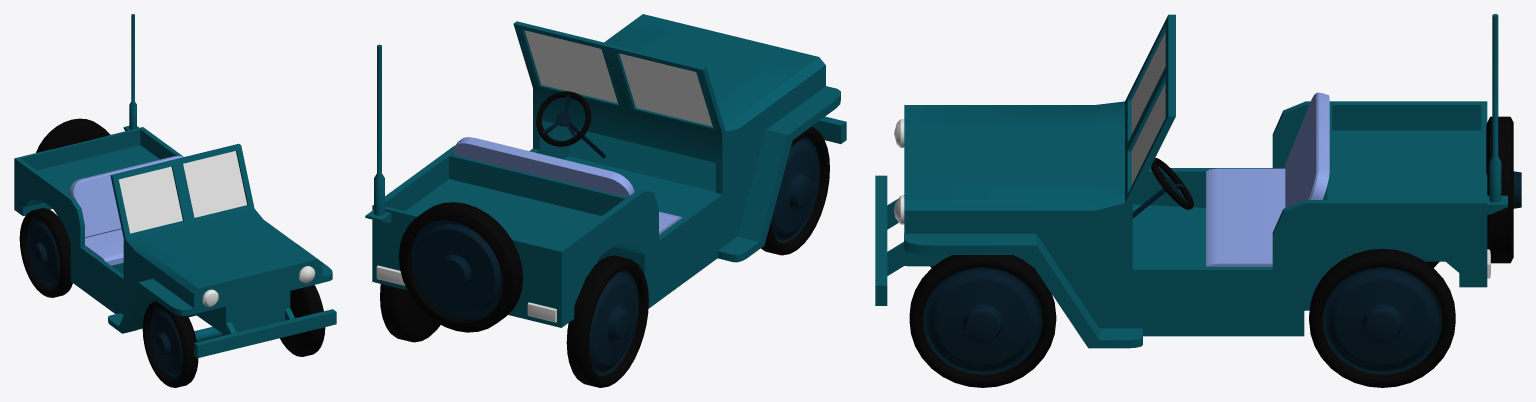
Rendered from Jeep  Enemy3.fbx.
The picture shows the model from 3 angles, left to right: view 1: azimuth 30°, elevation 25°; view 2: azimuth 150°, elevation 25°; view 3: azimuth 270°, elevation 25°; orthographic projection. The views are drawn at different scales.
Visible parts, largest first — view 1: Base, BackWheels, FrontWheel.R, FrontWheel.L; view 2: Base, BackWheels, FrontWheel.R, Steering Wheel; view 3: Base, BackWheels, FrontWheel.L, Steering Wheel.
Boxes of the visible parts, left/top/right/bottom form: Base: left=14, top=14, right=336, bottom=357; BackWheels: left=19, top=208, right=72, bottom=297; FrontWheel.R: left=142, top=300, right=198, bottom=387; FrontWheel.L: left=280, top=285, right=325, bottom=356; Base: left=365, top=14, right=846, bottom=332; BackWheels: left=380, top=255, right=648, bottom=387; FrontWheel.R: left=761, top=126, right=829, bottom=255; Steering Wheel: left=536, top=91, right=605, bottom=158; Base: left=875, top=14, right=1521, bottom=348; BackWheels: left=1309, top=248, right=1455, bottom=387; FrontWheel.L: left=909, top=255, right=1056, bottom=387; Steering Wheel: left=1132, top=158, right=1193, bottom=218.
Bounding box in the file's own units: 405 × 548 × 881.
